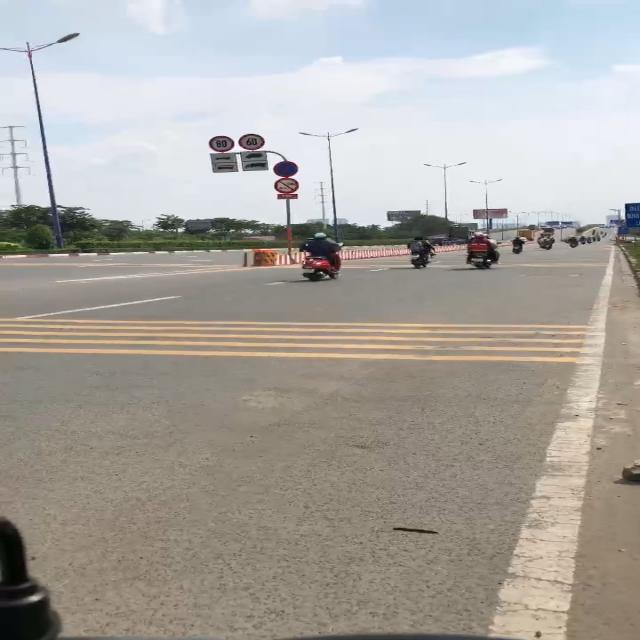Bien bao toc do toi da cho phep: (234, 131, 272, 150), (205, 134, 236, 153)
